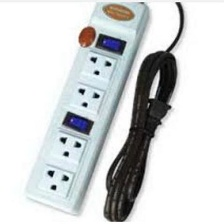three_eye_plug: (18, 0, 152, 218)
